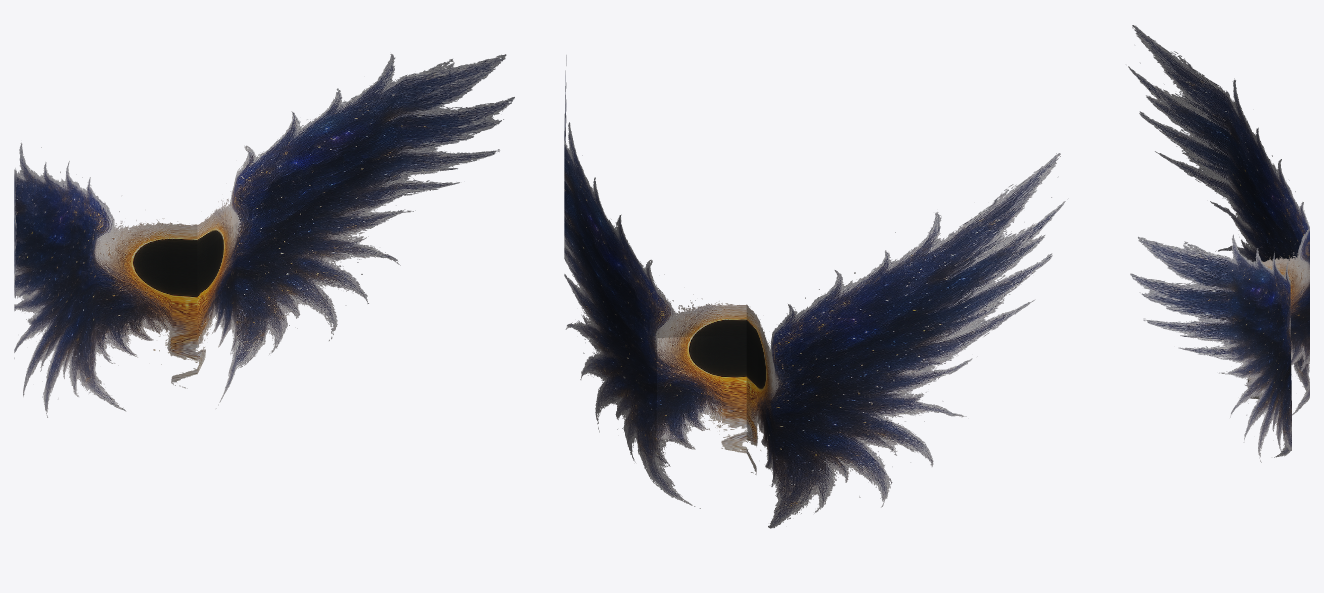
The model's file is canh6.fbx.
3 views of the same model, side by side, from view 1: azimuth 30°, elevation 25°; view 2: azimuth 150°, elevation 25°; view 3: azimuth 270°, elevation 25° (orthographic). The views are drawn at different scales.
Visible parts, largest first — view 1: canh6; view 2: canh6; view 3: canh6.
Part boxes in pixels (<box>): canh6: <box>14,54,514,417</box>; canh6: <box>564,55,1068,528</box>; canh6: <box>1128,25,1309,462</box>.
Bounding box in the file's own units: 1.81 × 1.34 × 0.6941.
